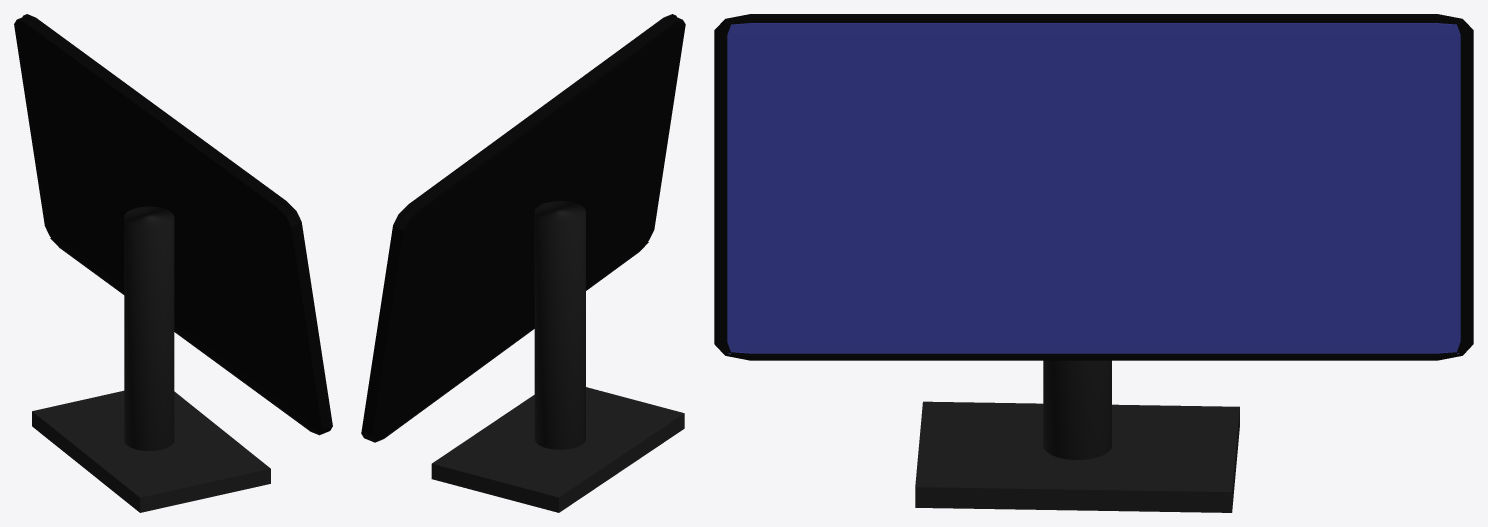
The model's file is monitor.glb.
3 renders of one model, left to right at view 1: azimuth 30°, elevation 25°; view 2: azimuth 150°, elevation 25°; view 3: azimuth 270°, elevation 25°, orthographic. The views are drawn at different scales.
Parts seen in each view (by area): view 1: Cube, stand, Cylinder, edges; view 2: Cube, stand, Cylinder, edges; view 3: Cube.001, stand, edges, Cylinder, Cube.
Part boxes in pixels (<box>): Cube: <box>14,17,328,433</box>; stand: <box>32,390,270,512</box>; Cylinder: <box>124,206,174,450</box>; edges: <box>22,14,332,435</box>; Cube: <box>363,17,685,440</box>; stand: <box>431,387,684,512</box>; Cylinder: <box>534,201,585,449</box>; edges: <box>361,14,676,442</box>; Cube.001: <box>727,23,1460,354</box>; stand: <box>915,401,1239,512</box>; edges: <box>714,14,1473,360</box>; Cylinder: <box>1043,360,1111,459</box>; Cube: <box>714,14,1473,354</box>.
Bounding box in the file's own units: 0.9301 × 2.21 × 3.3.
